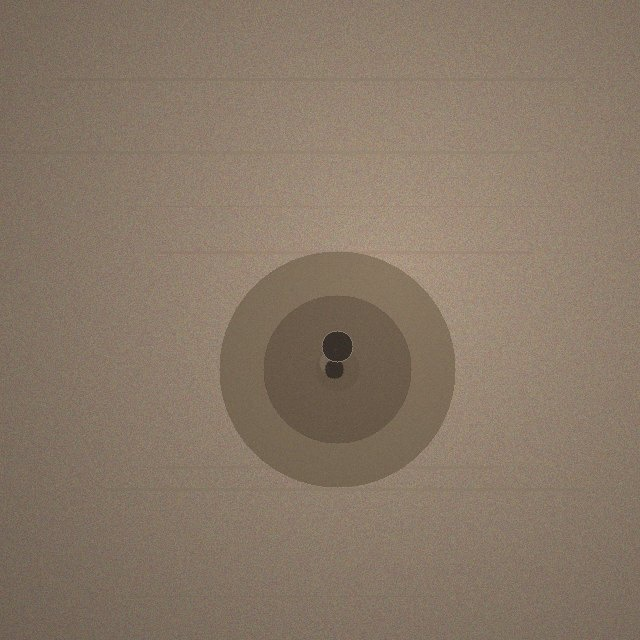shrinkage: (219, 251, 455, 487)
